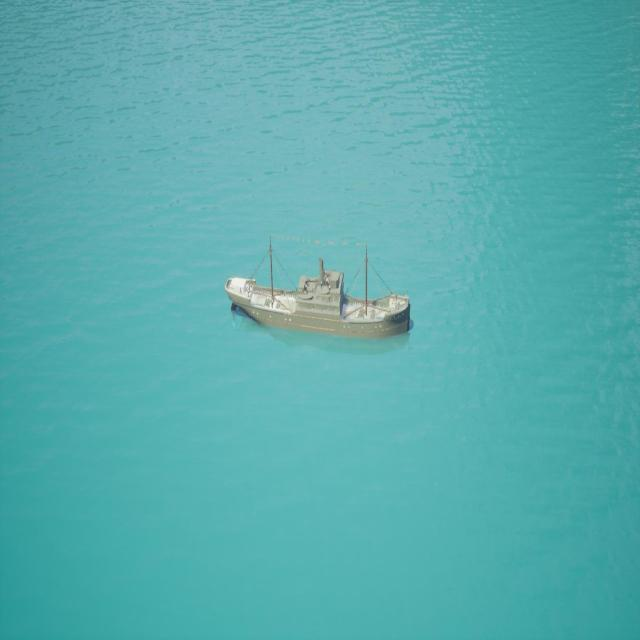fishing ship: (226, 237, 413, 347)
